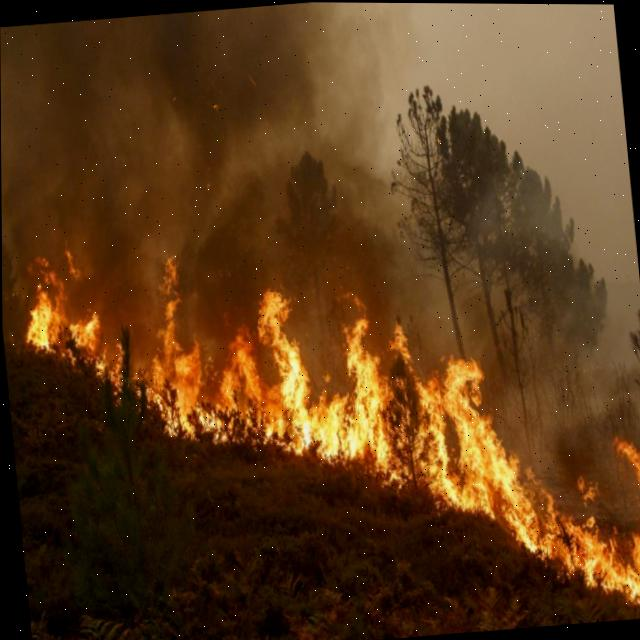fire: (22, 273, 640, 599)
smoke: (0, 2, 640, 523)
